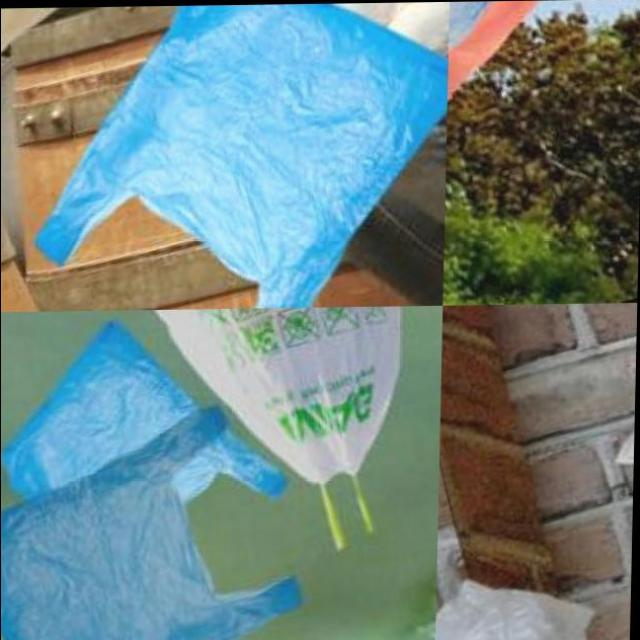plastik: (36, 5, 445, 307), (0, 322, 302, 640), (0, 476, 302, 640), (159, 308, 398, 484), (436, 515, 592, 640)
